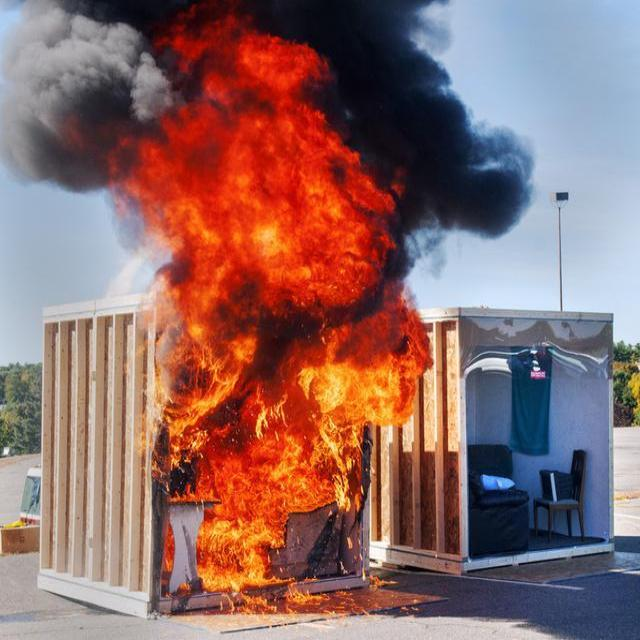Fire: (138, 26, 428, 601)
